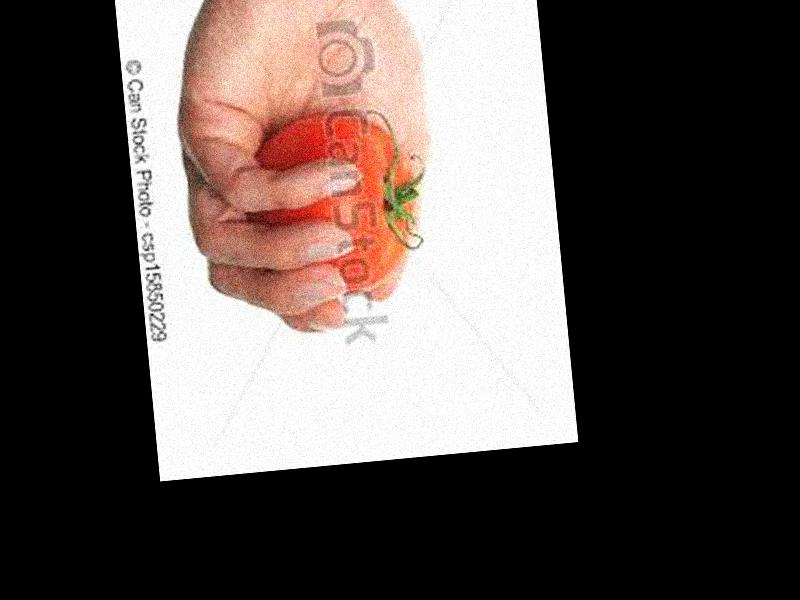Tomato: (244, 111, 422, 301)
